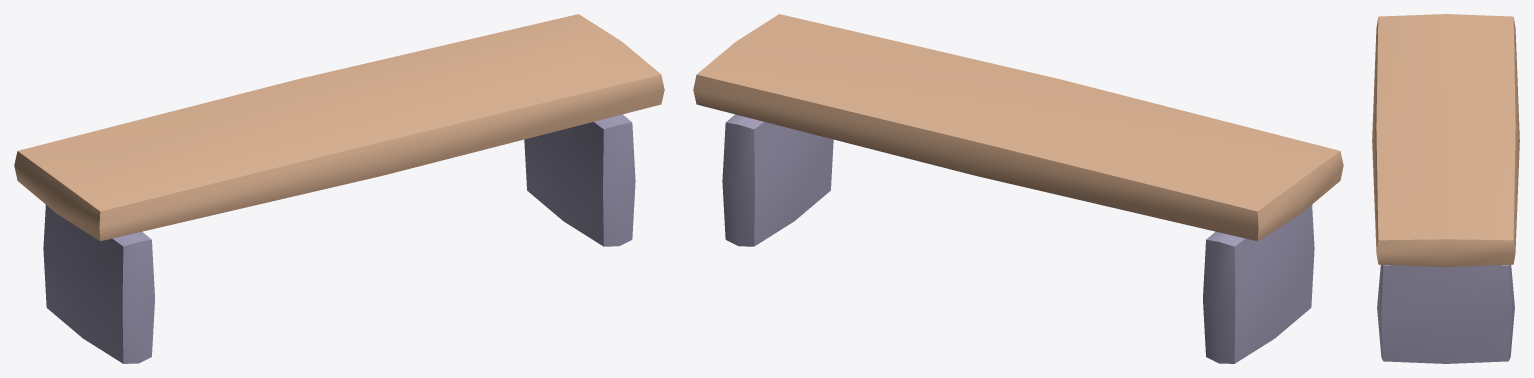
File: desk-shelf.glb
The picture shows the model from 3 angles, left to right: view 1: azimuth 30°, elevation 25°; view 2: azimuth 150°, elevation 25°; view 3: azimuth 270°, elevation 25°; orthographic projection. The views are drawn at different scales.
Visible parts, largest first — view 1: part (×3); view 2: part (×3); view 3: part (×2).
Part boxes in pixels (bbox=[...]): part (×3): bbox=[14, 14, 664, 363]; part (×3): bbox=[693, 14, 1343, 363]; part (×2): bbox=[1372, 14, 1519, 363].
Size of the model in its own units: 1.1 by 0.32 by 0.3.
1 material, 1 textured.
